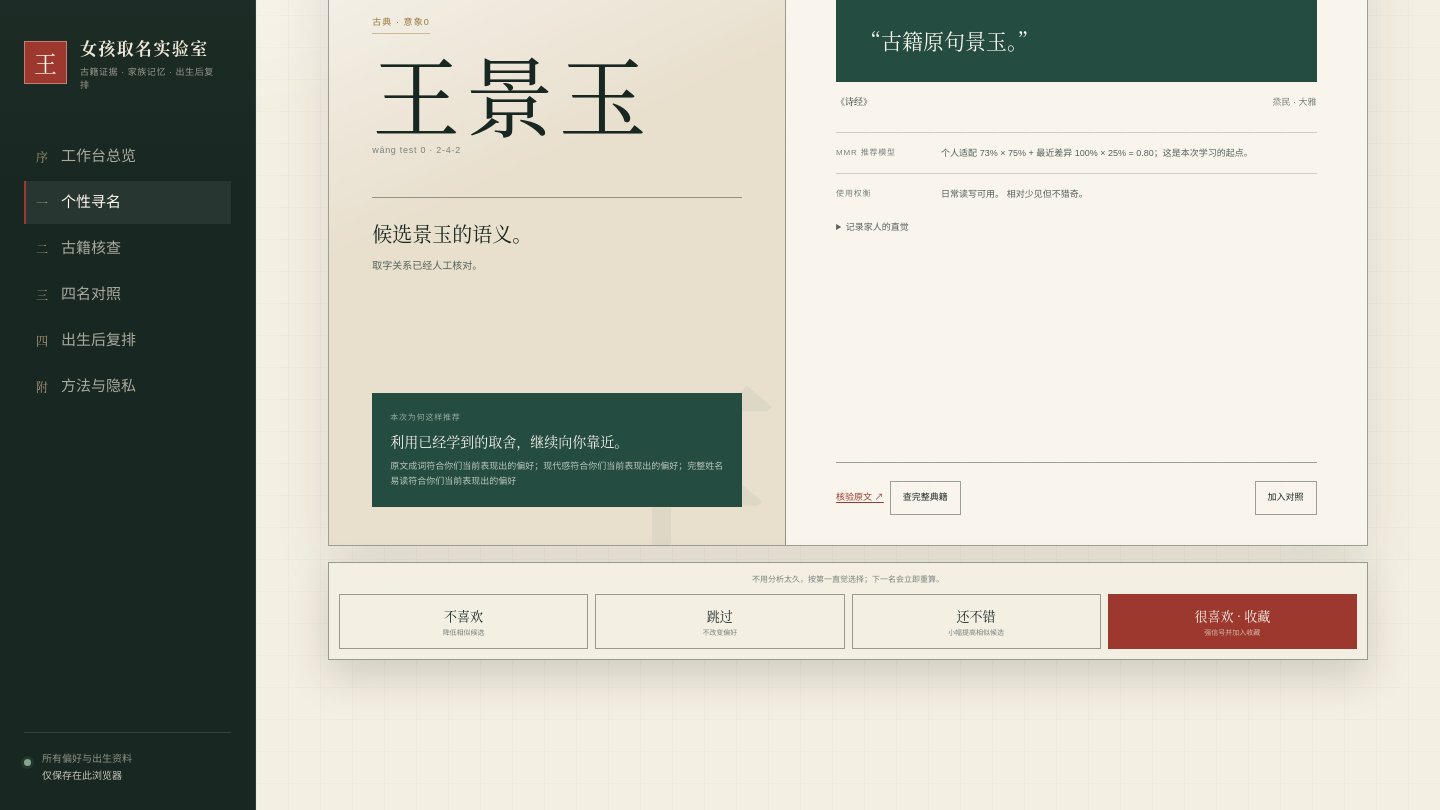
取名实验室应用 › 从候选卡直接带名字进入完整典籍核查
(page scrolled)
Click the button "查完整典籍" at (925, 498), box [890,481,961,515]
(page scrolled)
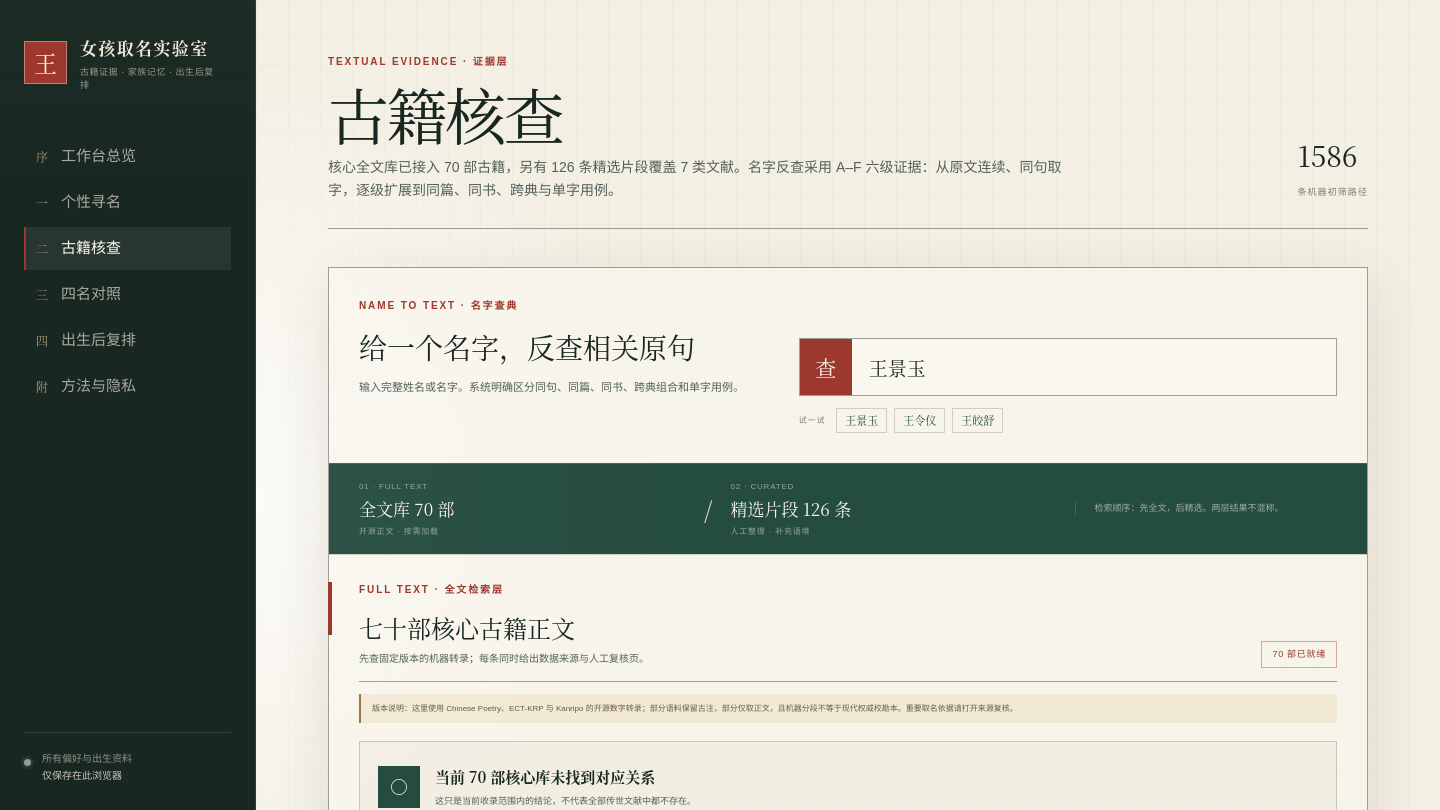
Expected: the search field named "输入姓名查找古籍原句" holds "王景玉", [852,339,1336,395]
